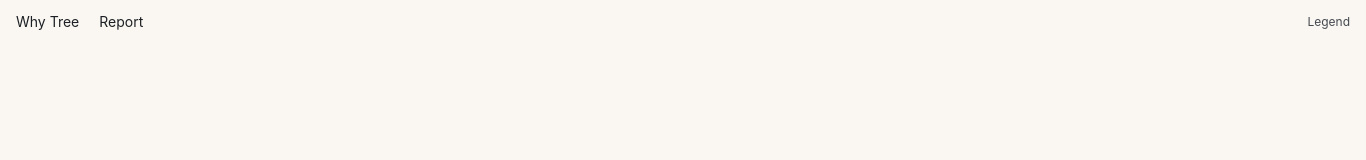
Scenario: InvestigationPanel › hides the legend by default and shows it after toggling
Expected: the text "Ruled out" is not shown
Step 1. Click the button "Legend" → (1329, 22), box top-left (1299, 10), bottom-right (1358, 34)
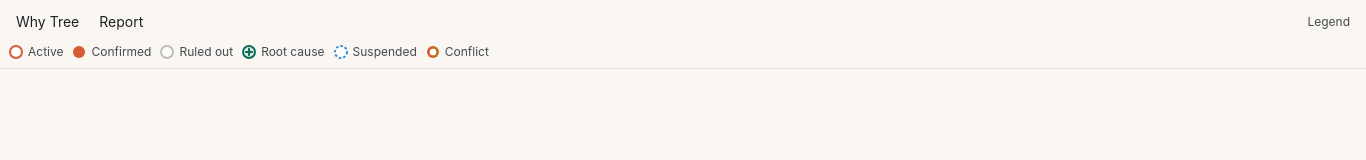
Expected: the text "Ruled out" is shown, top-left (160, 44), bottom-right (233, 60)
Expected: the text "Root cause" is shown, top-left (241, 44), bottom-right (324, 60)
Expected: the text "Conflict" is shown, top-left (425, 44), bottom-right (489, 60)
